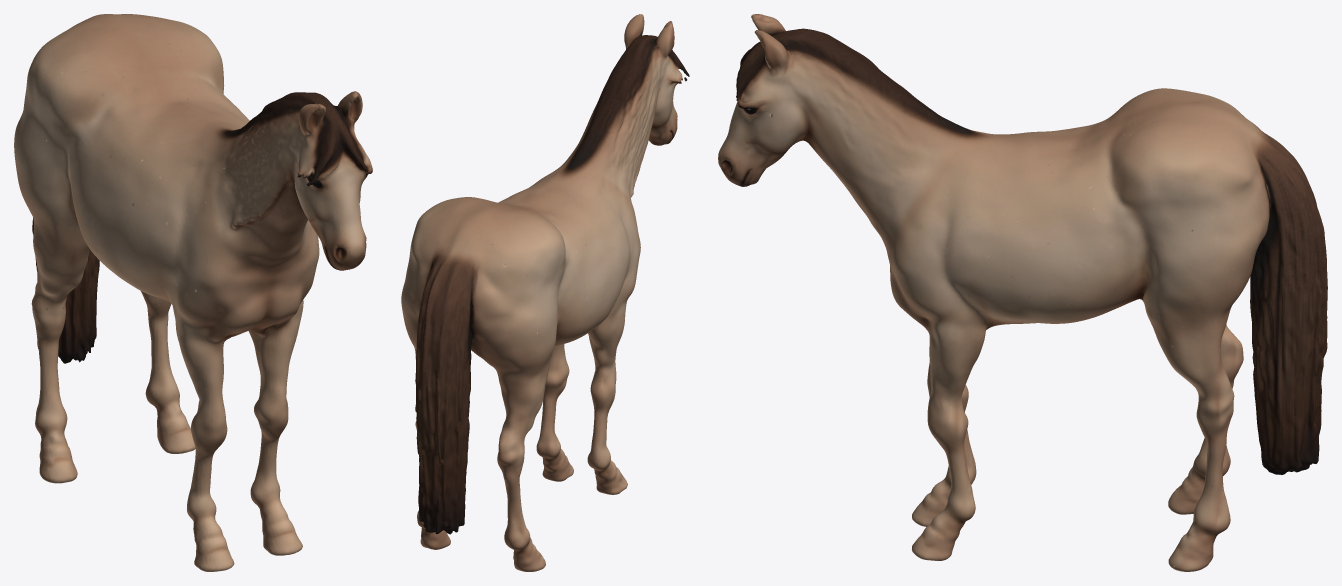
Rendered from horse.glb.
The picture shows the model from 3 angles, left to right: view 1: azimuth 30°, elevation 25°; view 2: azimuth 150°, elevation 25°; view 3: azimuth 270°, elevation 25°; orthographic projection. The views are drawn at different scales.
Parts seen in each view (by area): view 1: geometry_0; view 2: geometry_0; view 3: geometry_0.
Part boxes in pixels (x1,y1,x2,y2): geometry_0: (14, 14, 372, 571); geometry_0: (401, 14, 689, 571); geometry_0: (718, 14, 1327, 571).
Bounding box in the file's own units: 0.3336 × 0.9368 × 1.
Materials: 1 (1 with a texture image).
